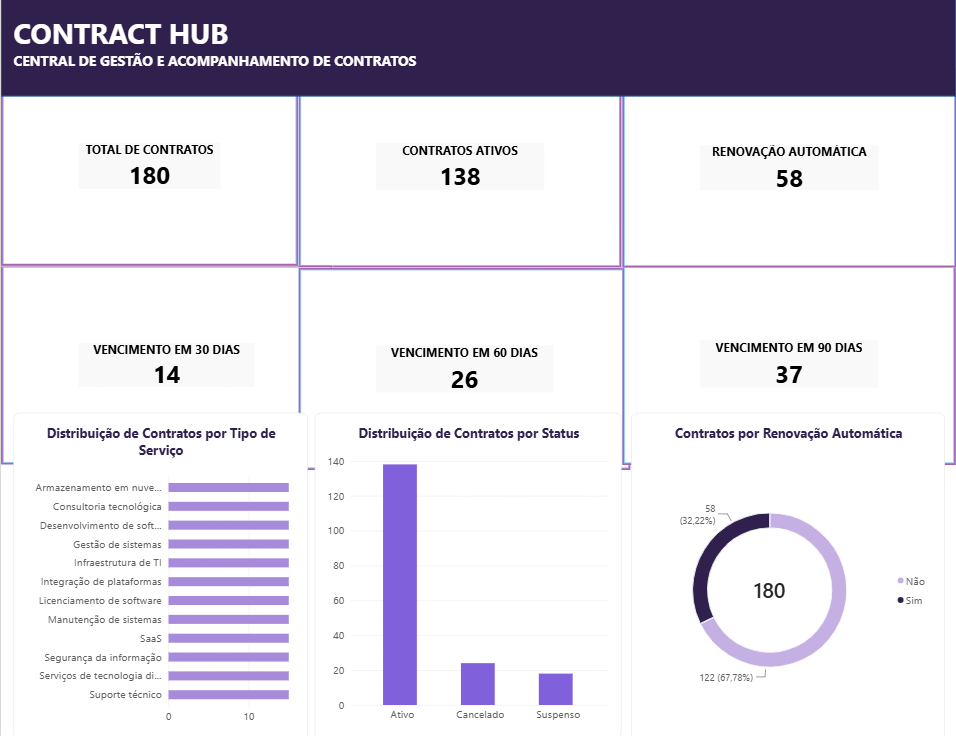

The page's visual inventory and layout, read from the dashboard file:
{"tool":"powerbi","page":{"name":"DASHBOARD FINAL","canvas":[1280,1000],"ordinal":1},"visuals":[{"type":"cardVisual","fields":{"Data":["contratos_dashboard.Contratos_Ativos"]},"box":[398.8,95.5,434,271.4],"z":1000},{"type":"cardVisual","fields":{"Data":["contratos_dashboard.Contratos_Vencem_30_Dias"]},"box":[0,363.6,444.2,267.3],"z":2000},{"type":"cardVisual","fields":{"Data":["contratos_dashboard.Contratos_Vencem_60_Dias"]},"box":[398.8,367,445.7,271.4],"z":3000},{"type":"cardVisual","fields":{"Data":["contratos_dashboard.Contratos_Vencem_90_Dias"]},"box":[832.8,360.3,447.4,271.4],"z":4000},{"type":"cardVisual","fields":{"Data":["contratos_dashboard.Contratos_Renovacao_Automatica"]},"box":[832.8,98.9,448,268.1],"z":5000},{"type":"clusteredColumnChart","title":"Distribuição de Contratos por Status","fields":{"Category":["contratos_dashboard.Status_Contrato"],"Y":["contratos_dashboard.Total_Contratos"]},"box":[421.2,561.5,411.5,436.5],"z":6000},{"type":"clusteredBarChart","title":"Distribuição de Contratos por Tipo de Serviço","fields":{"Category":["contratos_dashboard.Tipo_Servico"],"Y":["contratos_dashboard.Total_Contratos"]},"box":[17.3,561.5,394.2,438.5],"z":7000},{"type":"cardVisual","fields":{"Data":["contratos_dashboard.Total_Contratos"]},"box":[0,95.5,398.8,269.8],"z":8000},{"type":"donutChart","title":"Contratos por Renovação Automática","fields":{"Category":["contratos_dashboard.Renovacao_Automatica"],"Y":["contratos_dashboard.Total_Contratos"]},"box":[844.2,561.5,421.2,438.5],"z":8001},{"type":"shape","box":[0,0,1280.3,137.2],"z":8002},{"type":"textbox","box":[17.3,26.9,590.4,136.5],"z":8003}]}

Visuals, with their boxes in screenshot pixels (x1, y1, x2, y2), scaled from the page's 1280x1000 canvas onto the 956x736 screenshot:
cardVisual - contratos_dashboard.Contratos_Ativos: rect(298, 70, 622, 270)
cardVisual - contratos_dashboard.Contratos_Vencem_30_Dias: rect(0, 268, 332, 464)
cardVisual - contratos_dashboard.Contratos_Vencem_60_Dias: rect(298, 270, 631, 470)
cardVisual - contratos_dashboard.Contratos_Vencem_90_Dias: rect(622, 265, 955, 465)
cardVisual - contratos_dashboard.Contratos_Renovacao_Automatica: rect(622, 73, 955, 270)
"Distribuição de Contratos por Status" clusteredColumnChart: rect(315, 413, 622, 735)
"Distribuição de Contratos por Tipo de Serviço" clusteredBarChart: rect(13, 413, 307, 735)
cardVisual - contratos_dashboard.Total_Contratos: rect(0, 70, 298, 269)
"Contratos por Renovação Automática" donutChart: rect(631, 413, 945, 735)
shape: rect(0, 0, 955, 101)
textbox: rect(13, 20, 454, 120)
